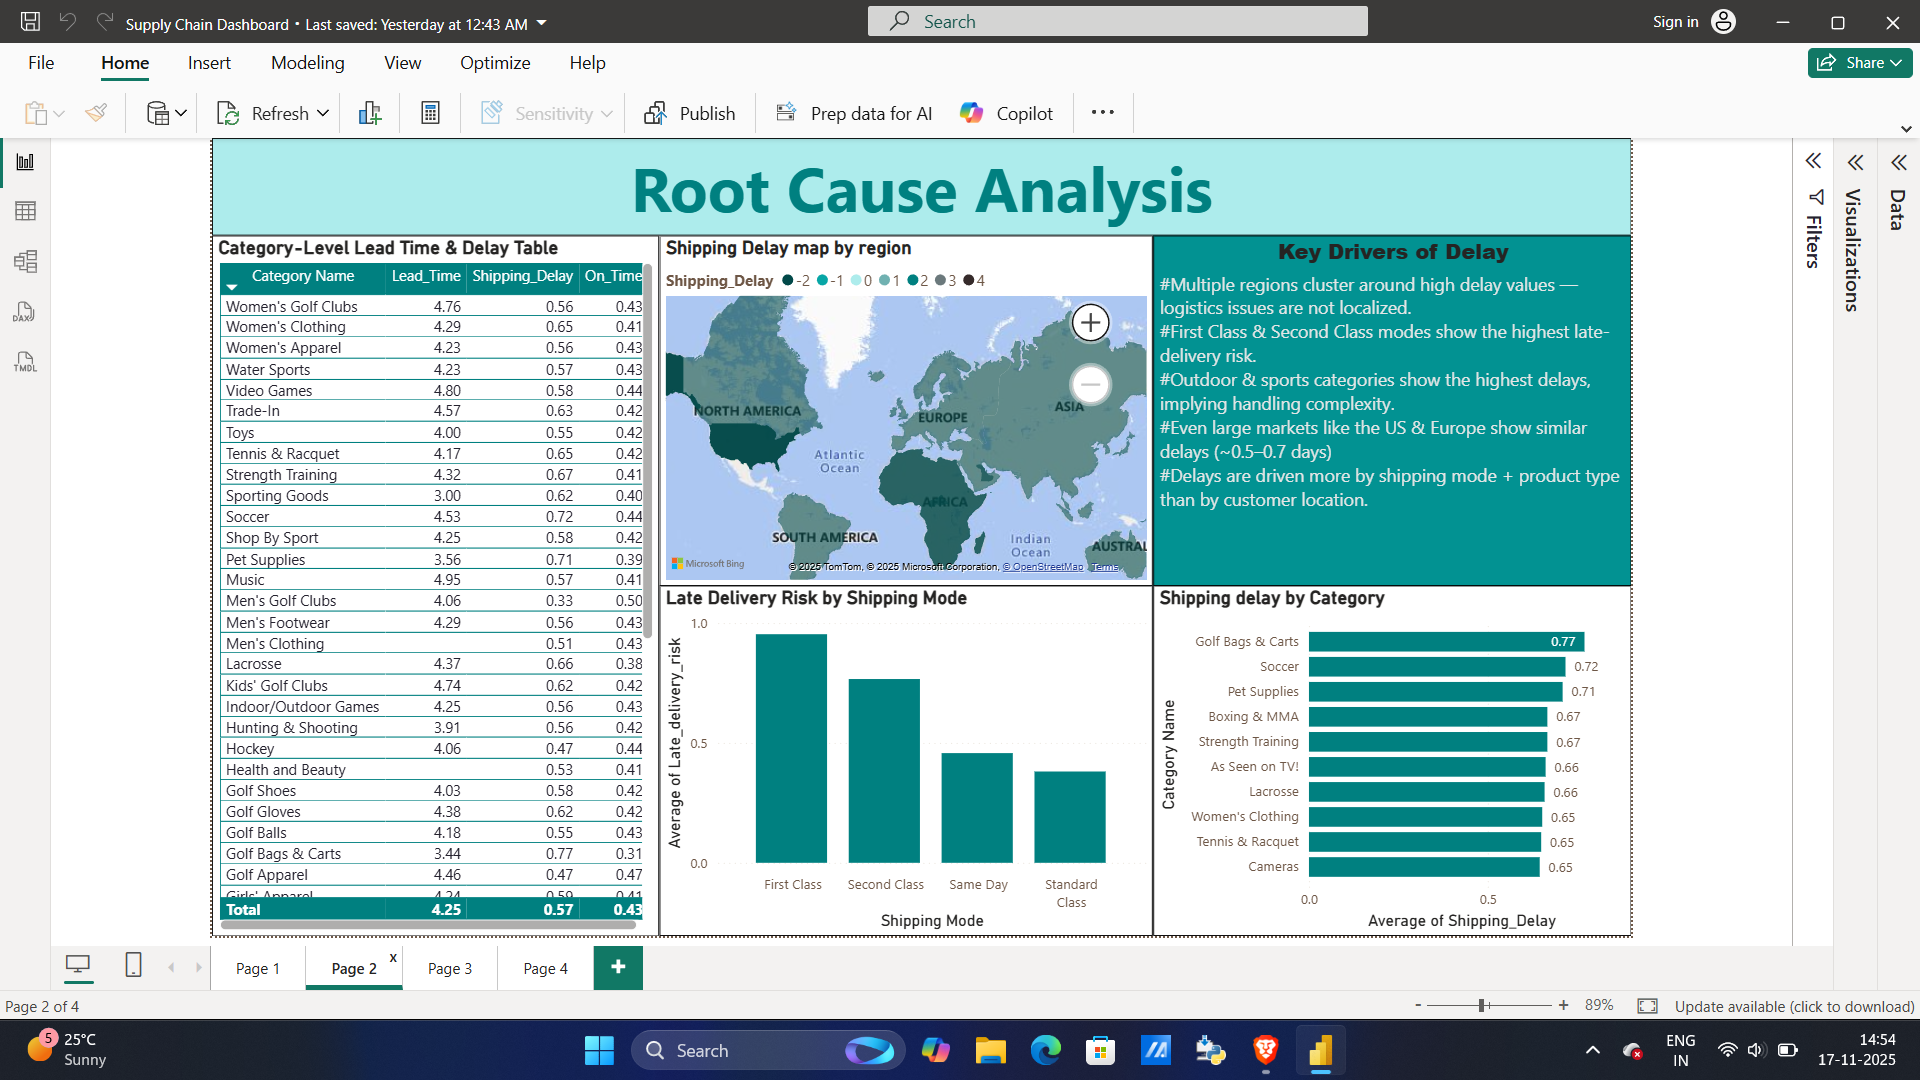

Layout of this report page (visuals, bound fields, positions):
{"tool":"powerbi","page":{"name":"Page 2","canvas":[1280,720],"ordinal":1},"visuals":[{"type":"textbox","box":[0,0,1280.3,88],"z":0},{"type":"clusteredColumnChart","title":"Late Delivery Risk by Shipping Mode","fields":{"Category":["Cleaned_SupplyChain.Shipping Mode"],"Y":["Avg(Cleaned_SupplyChain.Late_delivery_risk)"]},"box":[403.8,403.8,445,316.2],"z":1000},{"type":"clusteredBarChart","title":"Shipping delay by Category","fields":{"Category":["Cleaned_SupplyChain.Category Name"],"Y":["Avg(Cleaned_SupplyChain.Shipping_Delay)"]},"box":[848.8,403.8,431.2,316.2],"z":2000},{"type":"filledMap","title":"Shipping Delay map by region","fields":{"Series":["Cleaned_SupplyChain.Shipping_Delay"],"Category":["Cleaned_SupplyChain.Order Region"]},"box":[403.8,87.5,445,316.2],"z":3000},{"type":"tableEx","title":"Category-Level Lead Time & Delay Table","fields":{"Values":["Cleaned_SupplyChain.Category Name","Avg(Cleaned_SupplyChain.Lead_Time)","Avg(Cleaned_SupplyChain.Shipping_Delay)","Avg(Cleaned_SupplyChain.On_Time)"]},"box":[0,88,403.5,632.2],"z":4000},{"type":"textbox","title":"Key Drivers of Delay","box":[849,88,431,316],"z":5000}]}

Visuals, with their boxes on the page's 1280x720 design canvas (x1, y1, x2, y2). These are canvas units, not pixel positions in the 1920x1080 screenshot, which may show the page scaled, cropped or inside an application window:
textbox: BBox(0, 0, 1280, 88)
"Late Delivery Risk by Shipping Mode" clusteredColumnChart: BBox(404, 404, 849, 720)
"Shipping delay by Category" clusteredBarChart: BBox(849, 404, 1280, 720)
"Shipping Delay map by region" filledMap: BBox(404, 88, 849, 404)
"Category-Level Lead Time & Delay Table" tableEx: BBox(0, 88, 404, 720)
"Key Drivers of Delay" textbox: BBox(849, 88, 1280, 404)
